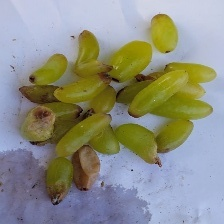grapes: (16, 16, 176, 182)
